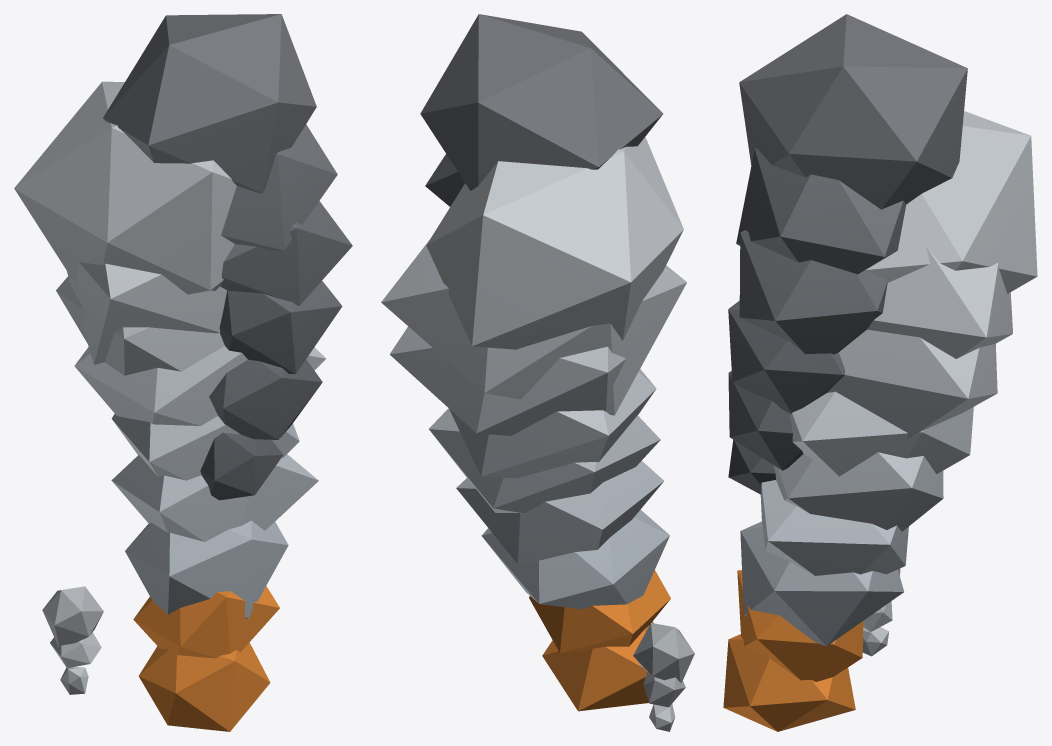
File: steam-smoke-plume.glb
The picture shows the model from 3 angles, left to right: view 1: azimuth 30°, elevation 25°; view 2: azimuth 150°, elevation 25°; view 3: azimuth 270°, elevation 25°; orthographic projection. The views are drawn at different scales.
Visible parts, largest first — view 1: steam_smoke_plume; view 2: steam_smoke_plume; view 3: steam_smoke_plume.
Boxes of the visible parts, x1,y1,x2,y2 form: steam_smoke_plume: [14, 14, 352, 731]; steam_smoke_plume: [381, 14, 694, 731]; steam_smoke_plume: [723, 14, 1037, 731].
Size of the model in its own units: 1.85 by 4.5 by 1.82.
